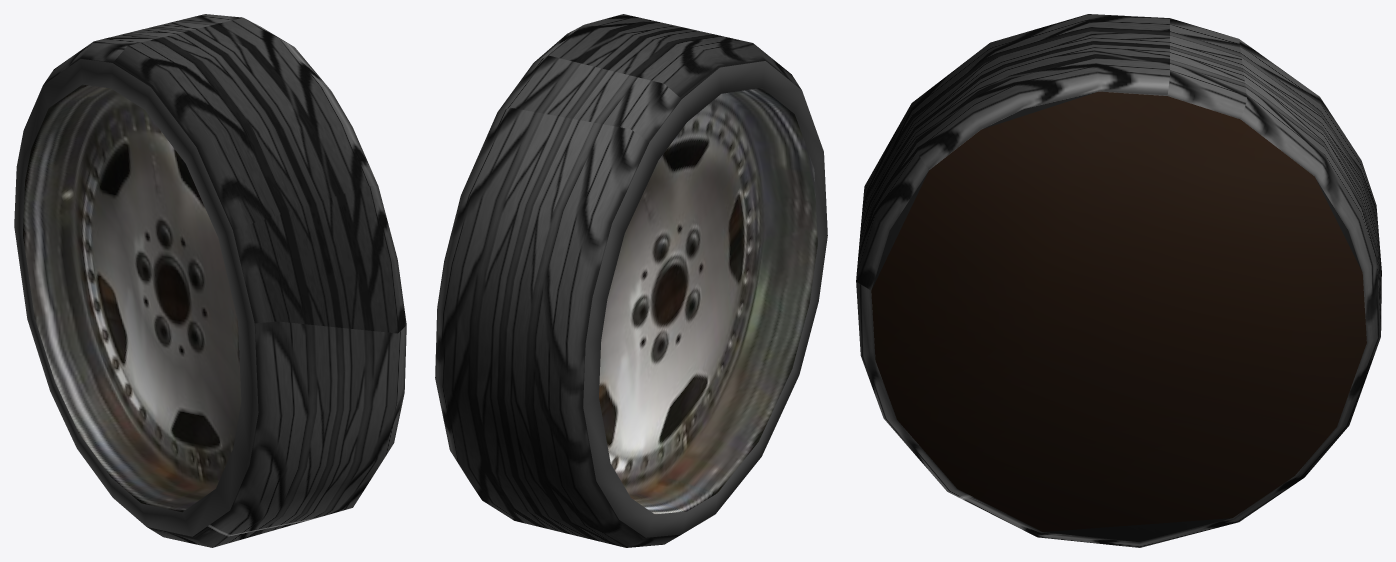
The model's file is wheel4.fbx.
3 renders of one model, left to right at view 1: azimuth 30°, elevation 25°; view 2: azimuth 150°, elevation 25°; view 3: azimuth 270°, elevation 25°, orthographic.
Visible parts, largest first — view 1: Cylinder; view 2: Cylinder; view 3: Cylinder.
Boxes of the visible parts, x1,y1,x2,y2 form: Cylinder: [14, 14, 406, 547]; Cylinder: [435, 14, 827, 547]; Cylinder: [856, 14, 1381, 547].
Bounding box in the file's own units: 71.69 × 212 × 212.
1 material, 1 textured.
